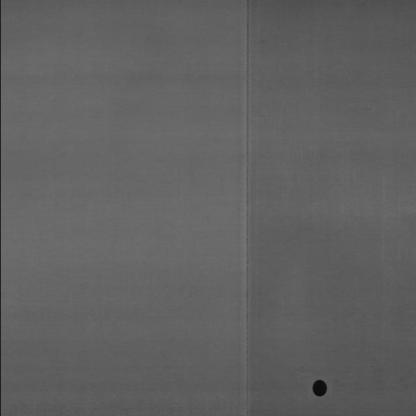punching_hole: (306, 377, 332, 398)
welding_line: (228, 0, 260, 416)
